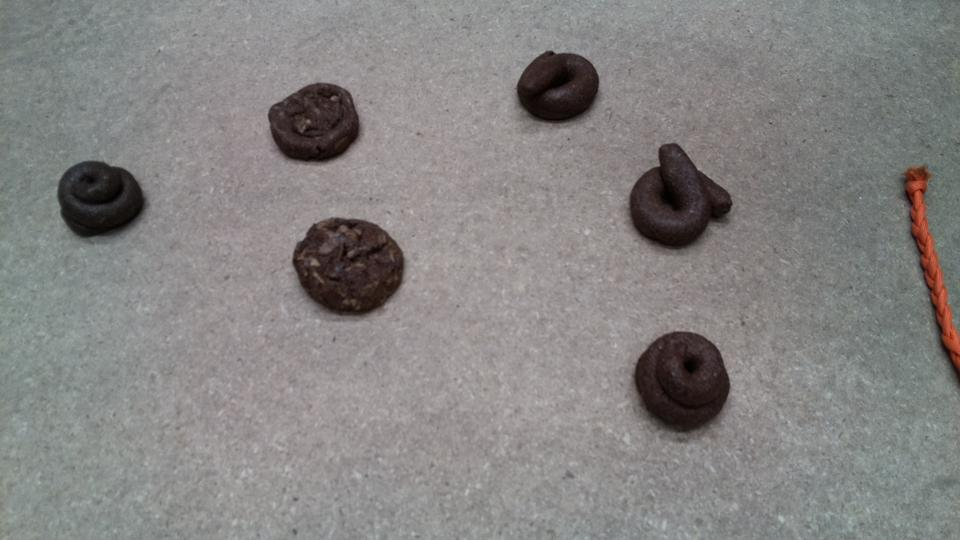poop: (288, 212, 409, 321), (625, 141, 735, 251), (631, 327, 733, 440), (263, 79, 368, 170), (55, 158, 147, 242), (511, 48, 602, 125)
rope: (900, 161, 960, 350)
